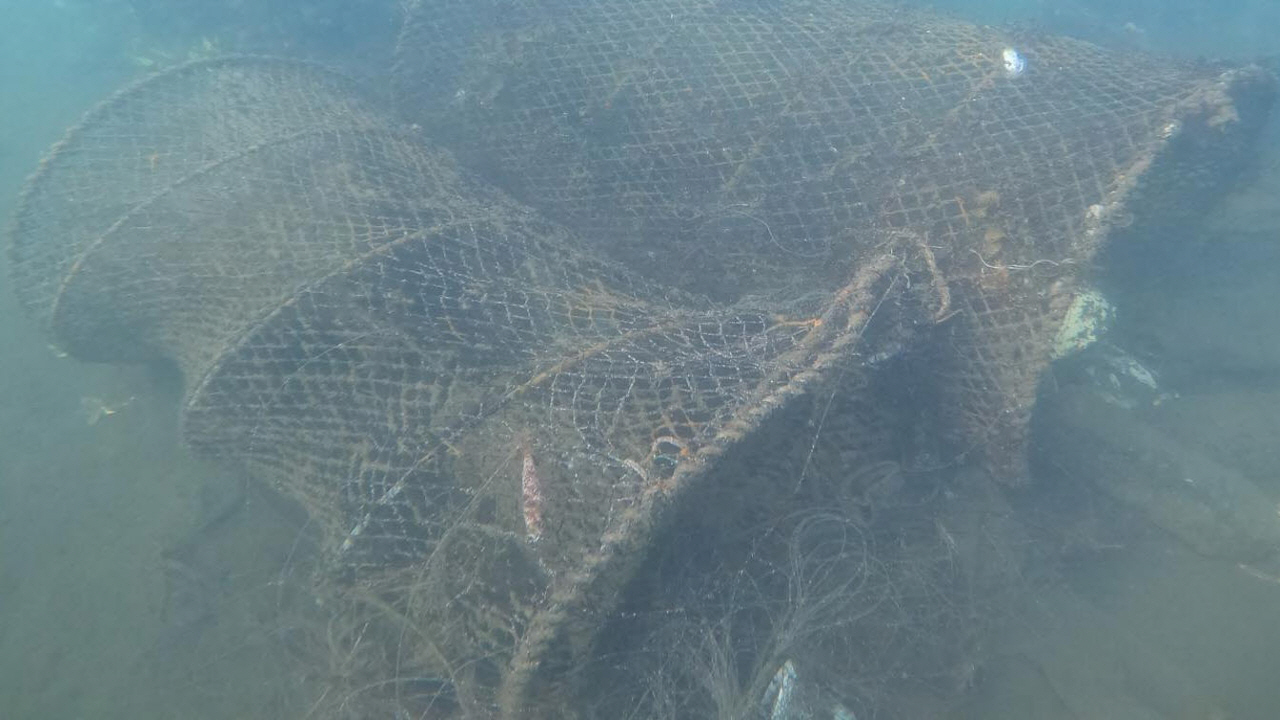spring fish trap: (7, 51, 895, 720)
